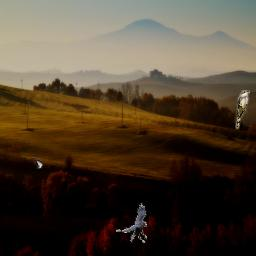Crow: (116, 203, 147, 243)
Cuckoo: (235, 90, 250, 130)
Swallow: (33, 157, 43, 169)
